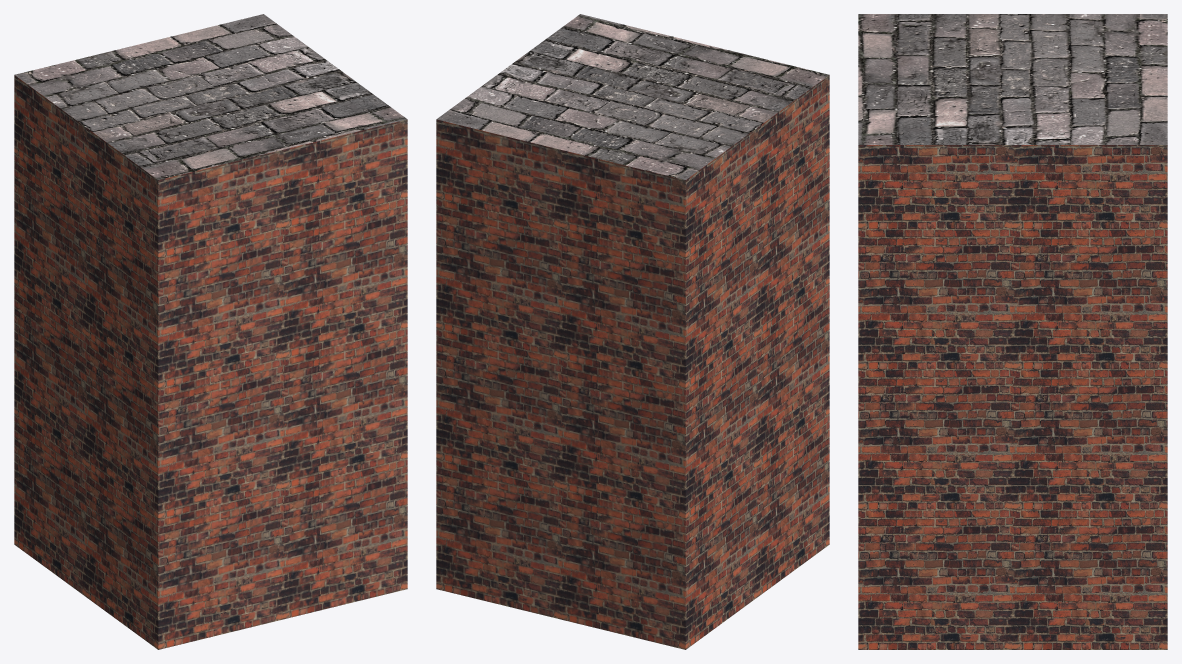
File: building_001.fbx
3 views of the same model, side by side, from view 1: azimuth 30°, elevation 25°; view 2: azimuth 150°, elevation 25°; view 3: azimuth 270°, elevation 25° (orthographic). The views are drawn at different scales.
Parts seen in each view (by area): view 1: building_001; view 2: building_001; view 3: building_001.
Boxes of the visible parts, x1,y1,x2,y2 form: building_001: [14, 14, 407, 649]; building_001: [436, 14, 829, 649]; building_001: [858, 14, 1167, 649].
Size of the model in its own units: 1000 by 1800 by 1000.
